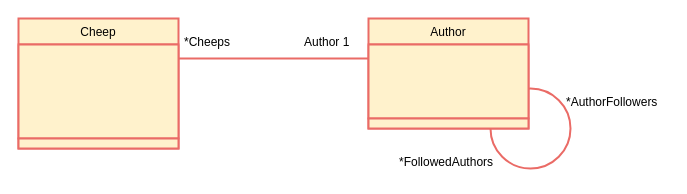
This 687x194 diagram has some shape labels left out. Each missing label, with the centre of its shape:
"AuthorId: GUID Name: string Email: string" goes at point 448,81.
"CheepId: GUID AuthorId: GUID Text: string DateTime: string" goes at point 98,91.
